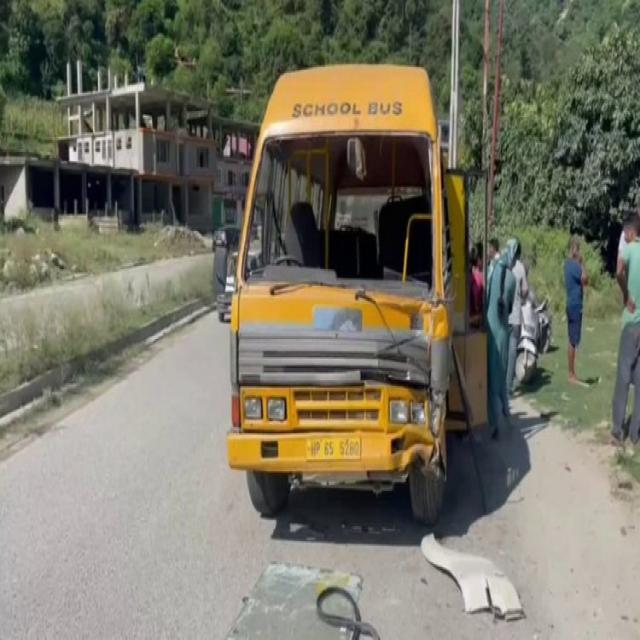accident: (229, 65, 488, 524)
